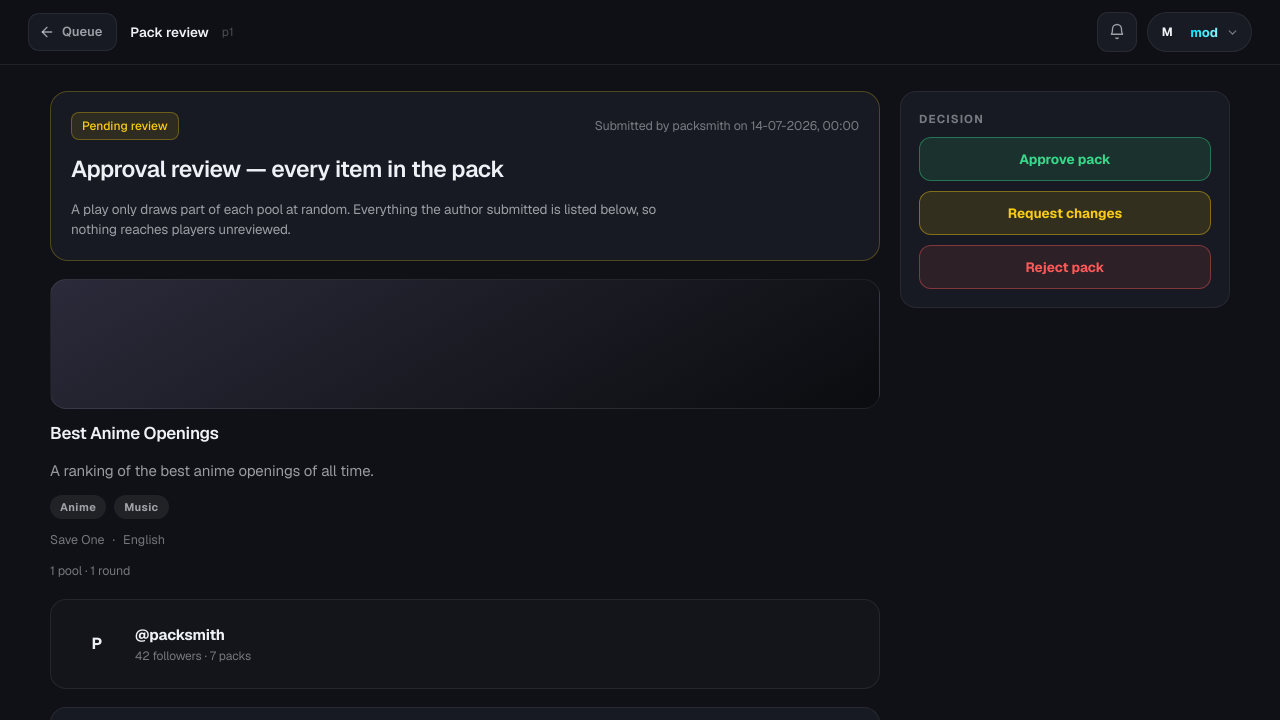
Test: PackReviewScreen › request changes › will not send a request with no message
Expected: the heading "Approval review — every item in the pack" is shown, [71, 154, 504, 184]
Click the button "Request changes": [1065, 213] box [919, 191, 1211, 235]
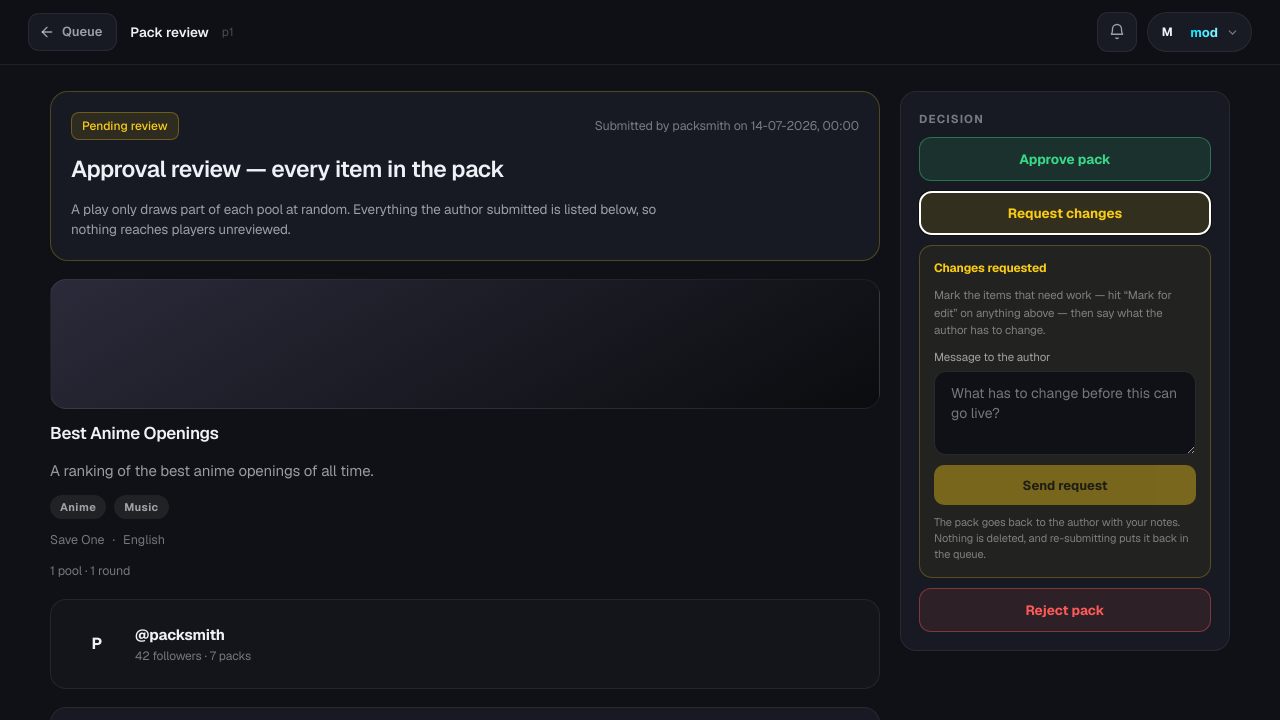
Result: the button "Send request" is disabled at [934, 465, 1196, 505]
